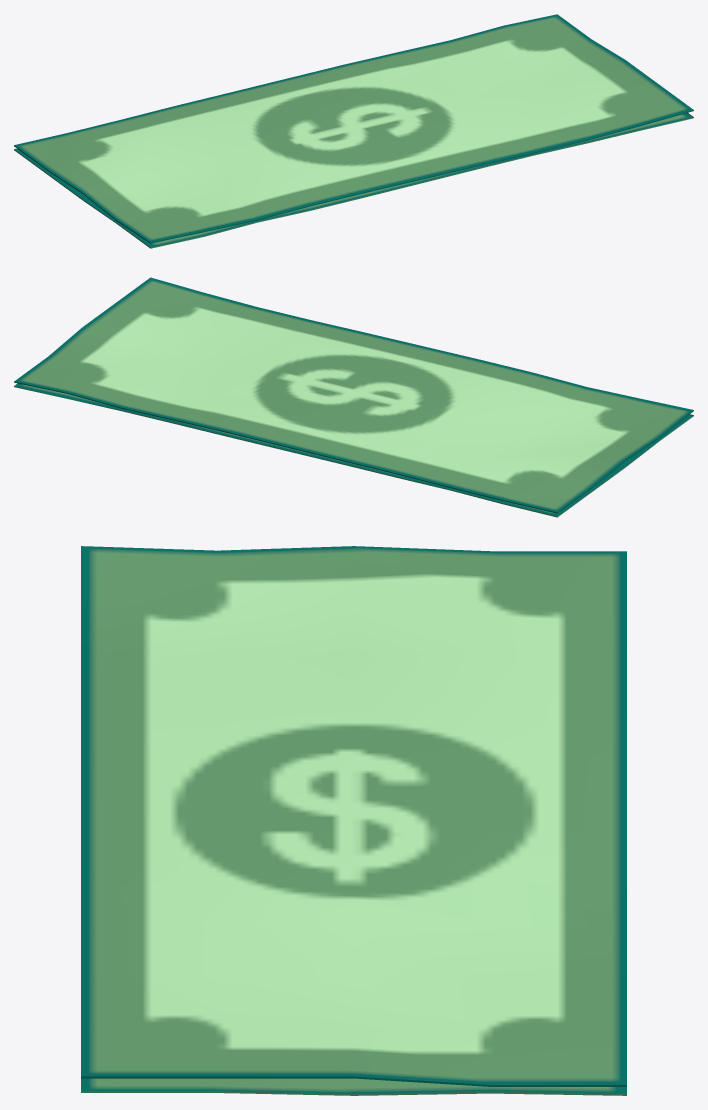
The model's file is Dollar Cash 2(fbx).fbx.
3 views of the same model, one above another, from view 1: azimuth 30°, elevation 25°; view 2: azimuth 150°, elevation 25°; view 3: azimuth 270°, elevation 25° (orthographic). The views are drawn at different scales.
Parts seen in each view (by area): view 1: Dollar Cash 1; view 2: Dollar Cash 1; view 3: Dollar Cash 1.
Boxes of the visible parts, x1,y1,x2,y2 form: Dollar Cash 1: (14,14,693,248); Dollar Cash 1: (14,277,693,517); Dollar Cash 1: (81,546,626,1095).
Bounding box in the file's own units: 49.47 × 0.8698 × 21.53.
